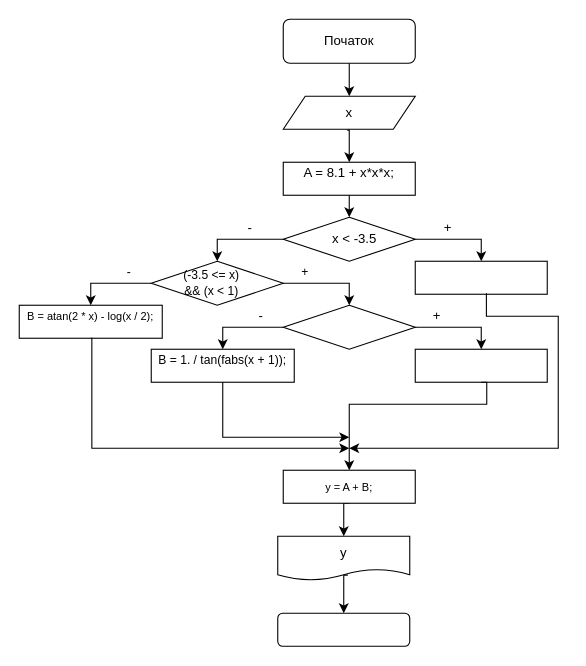
The diagram is 586 pixels wide and 666 high, and some of its shapes have lost their labels. Each missing label, with the box of its shape:
B = 1.: (414, 348, 547, 382)
B = 1. - pow(x, -5);: (414, 260, 547, 294)
tan(fabs(x + 1)) == 0: (282, 304, 415, 349)
кінець: (277, 612, 410, 646)
